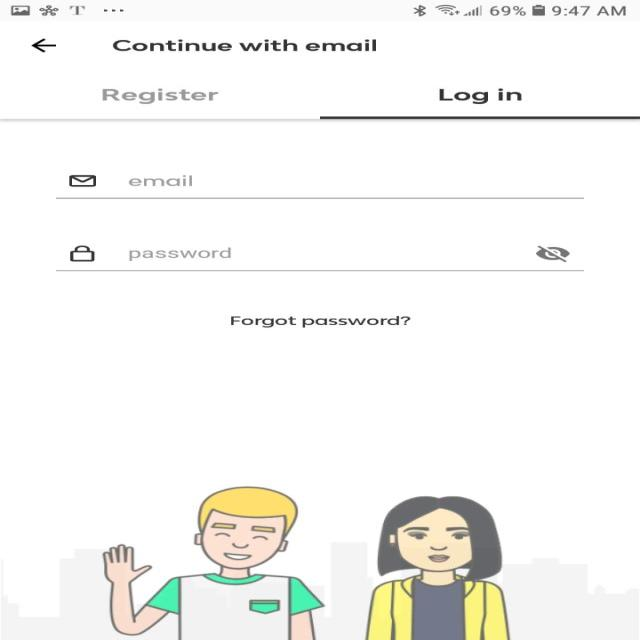EditText: (56, 246, 583, 272), (56, 174, 583, 199)
Icon: (534, 245, 570, 262), (70, 246, 95, 261), (31, 38, 56, 52), (69, 175, 96, 187)
Image: (0, 486, 639, 640)
Text: (112, 39, 376, 52), (231, 315, 411, 328), (101, 88, 219, 104), (129, 247, 231, 261), (438, 88, 522, 104), (129, 175, 192, 186)
